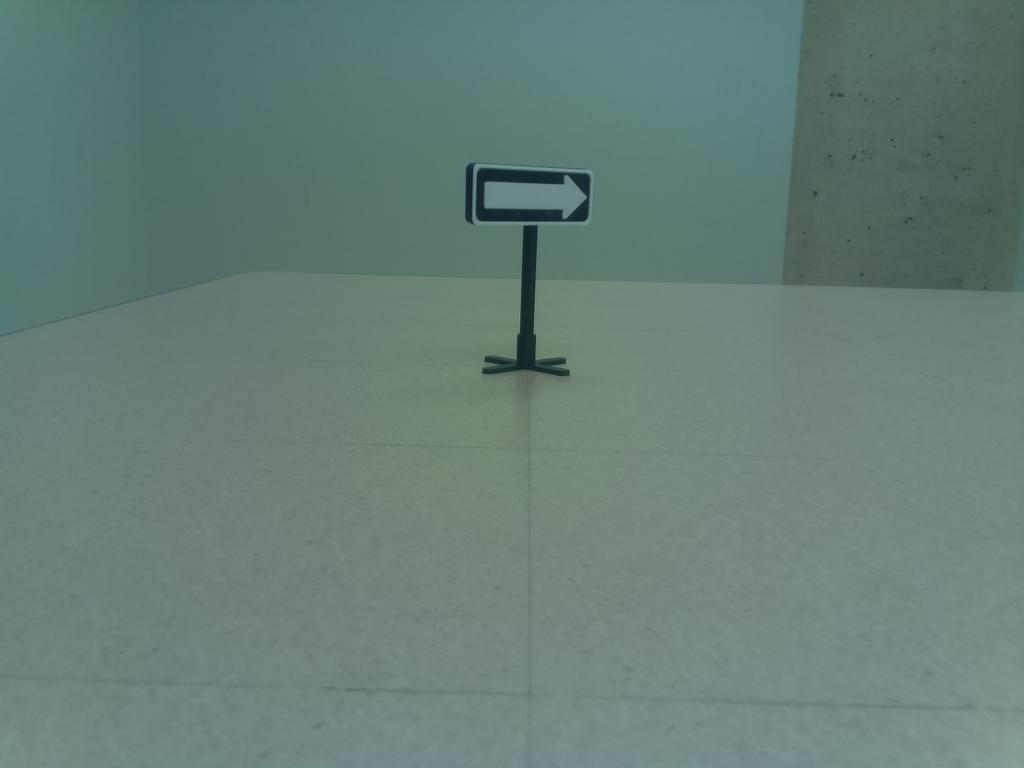sign_oneway_right: (460, 158, 599, 235)
